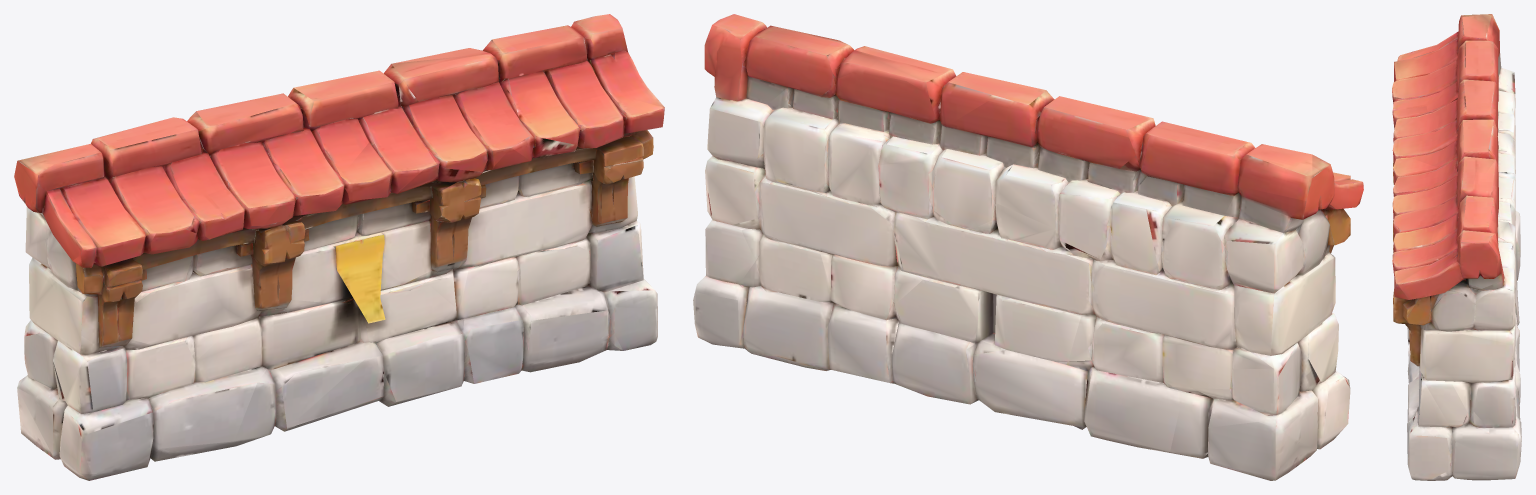
The model's file is cn_wall.glb.
The picture shows the model from 3 angles, left to right: view 1: azimuth 30°, elevation 25°; view 2: azimuth 150°, elevation 25°; view 3: azimuth 270°, elevation 25°; orthographic projection. The views are drawn at different scales.
Parts seen in each view (by area): view 1: Mesh; view 2: Mesh; view 3: Mesh.
Part boxes in pixels (bbox=[...]): Mesh: bbox=[14, 14, 664, 480]; Mesh: bbox=[693, 14, 1363, 480]; Mesh: bbox=[1392, 14, 1521, 480].
Size of the model in its own units: 1.89 by 0.9046 by 0.4437.
Materials: 1 (1 with a texture image).
